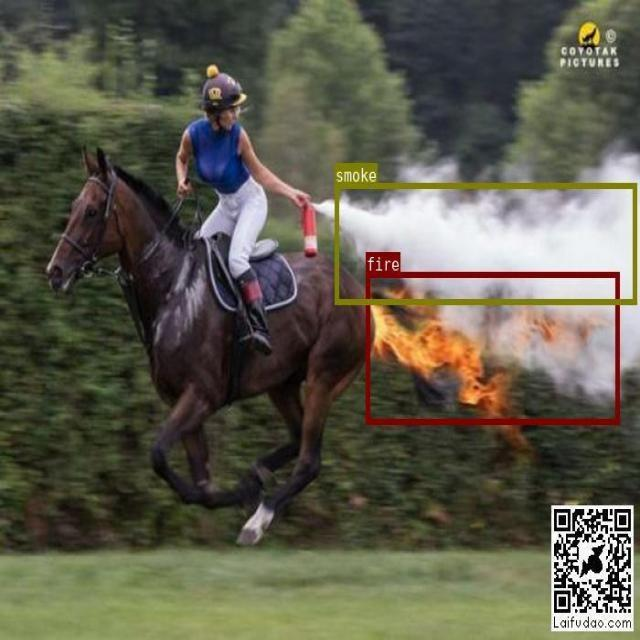fire: (365, 272, 618, 424)
smoke: (335, 183, 636, 304)
